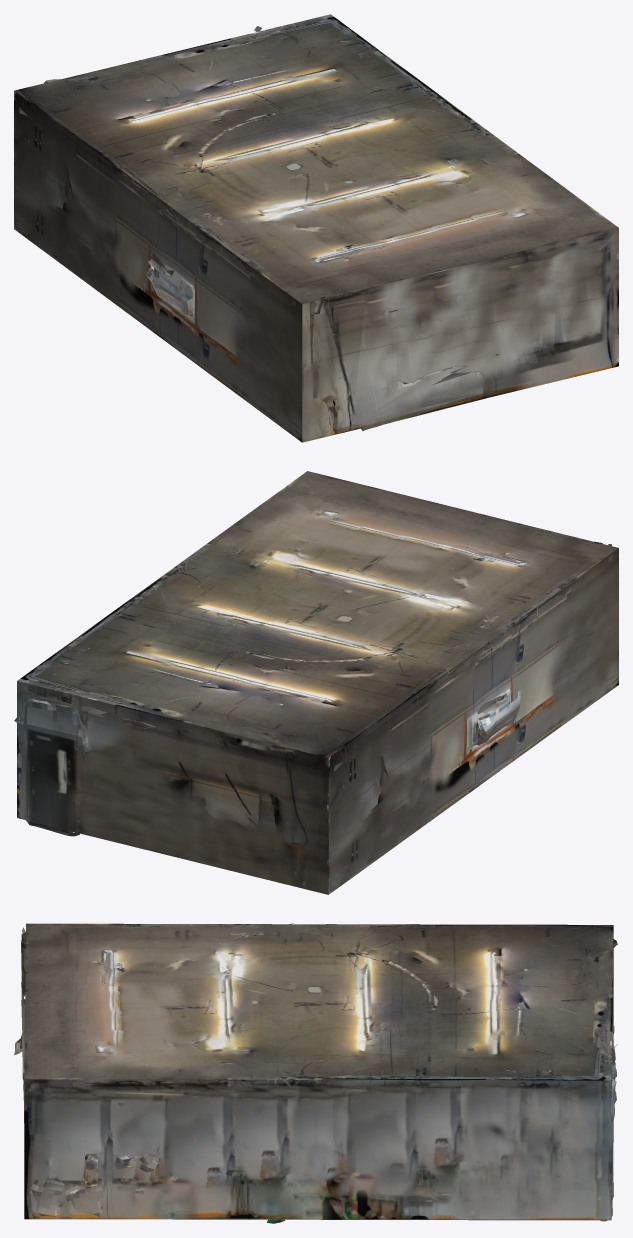
3 views of the same model, one above another, from view 1: azimuth 30°, elevation 25°; view 2: azimuth 150°, elevation 25°; view 3: azimuth 270°, elevation 25° (orthographic). The views are drawn at different scales.
Parts seen in each view (by area): view 1: 1_m108-IM; view 2: 1_m108-IM; view 3: 1_m108-IM.
Boxes of the visible parts, x1,y1,x2,y2 form: 1_m108-IM: (14, 14, 618, 442); 1_m108-IM: (14, 471, 618, 894); 1_m108-IM: (14, 923, 617, 1223).
Bounding box in the file's own units: 747 × 325 × 1156.
1 material, 1 textured.
